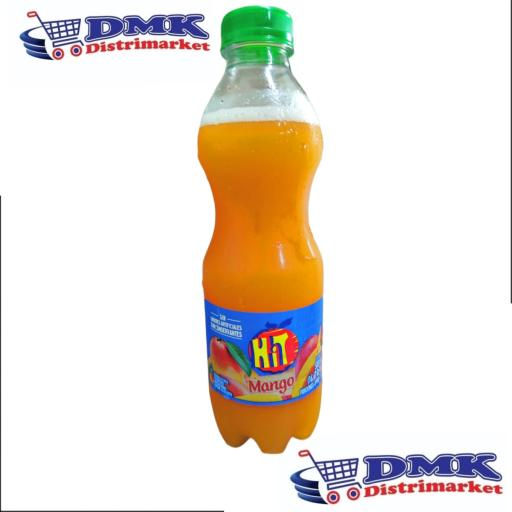JugoHM: (151, 0, 379, 456)
